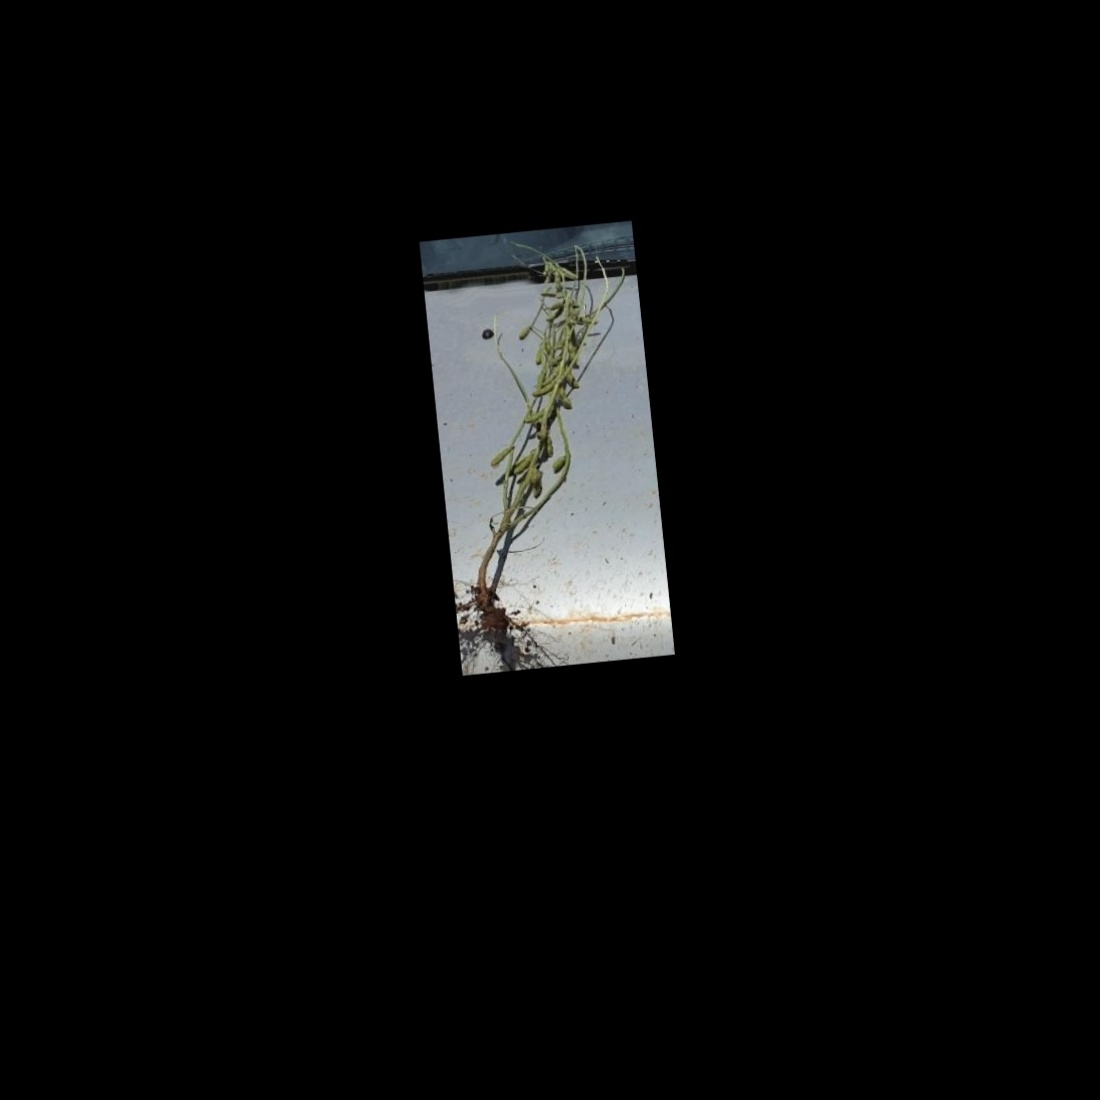pod: (487, 443, 516, 468), (509, 455, 535, 476), (519, 406, 549, 424), (549, 452, 571, 474), (558, 385, 571, 411), (515, 324, 534, 341)
soy: (426, 228, 668, 640)
